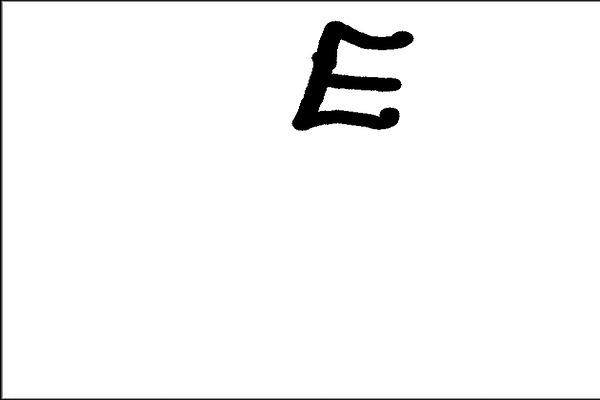E: (288, 17, 417, 135)
